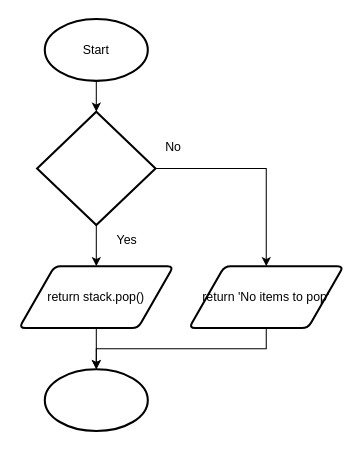
Some shapes in this 362 by 449 pixel diagram are drawn without their labels. The shapes that lost their labels are listed below. From the top down, each one's box as (x1, y1, x2, y2) in pixels, then its label:
(36, 110, 156, 226): if stack length !== 0
(43, 368, 148, 432): Stop
